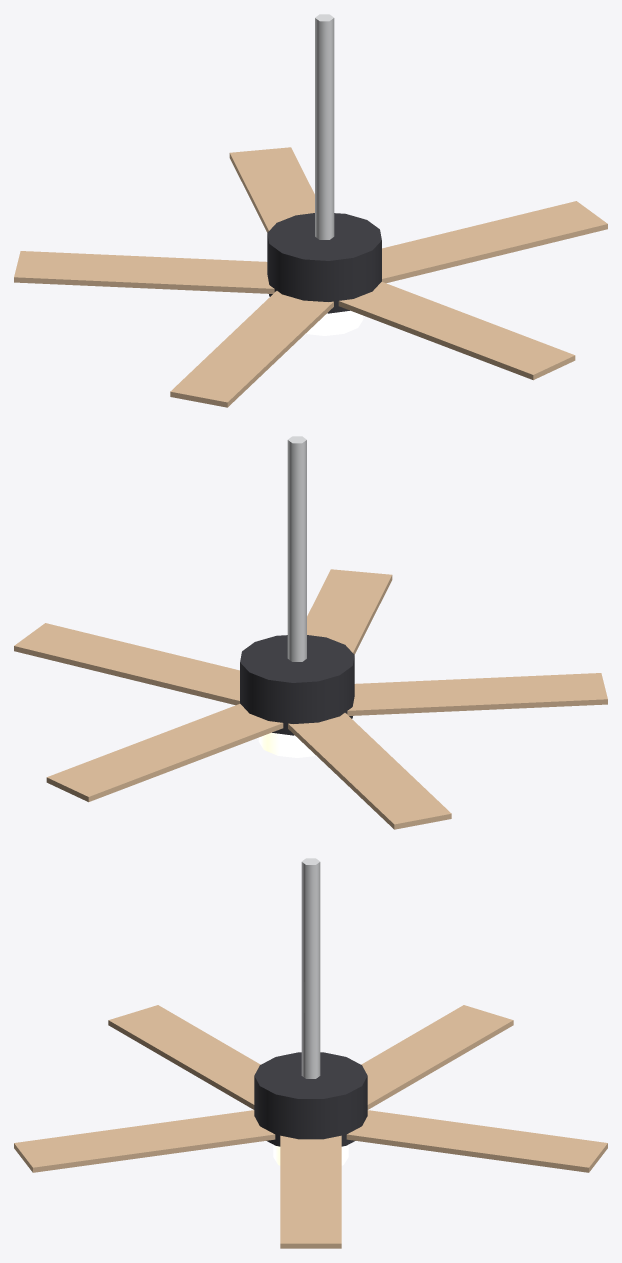
The model's file is ceiling_fan.glb.
The picture shows the model from 3 angles, top to bottom: view 1: azimuth 30°, elevation 25°; view 2: azimuth 150°, elevation 25°; view 3: azimuth 270°, elevation 25°; orthographic projection. The views are drawn at different scales.
Parts seen in each view (by area): view 1: ceiling_fan; view 2: ceiling_fan; view 3: ceiling_fan.
Boxes of the visible parts, x1,y1,x2,y2 form: ceiling_fan: (14, 14, 607, 407); ceiling_fan: (14, 436, 607, 829); ceiling_fan: (14, 858, 607, 1248).
Bounding box in the file's own units: 1.2 × 0.69 × 1.26.
